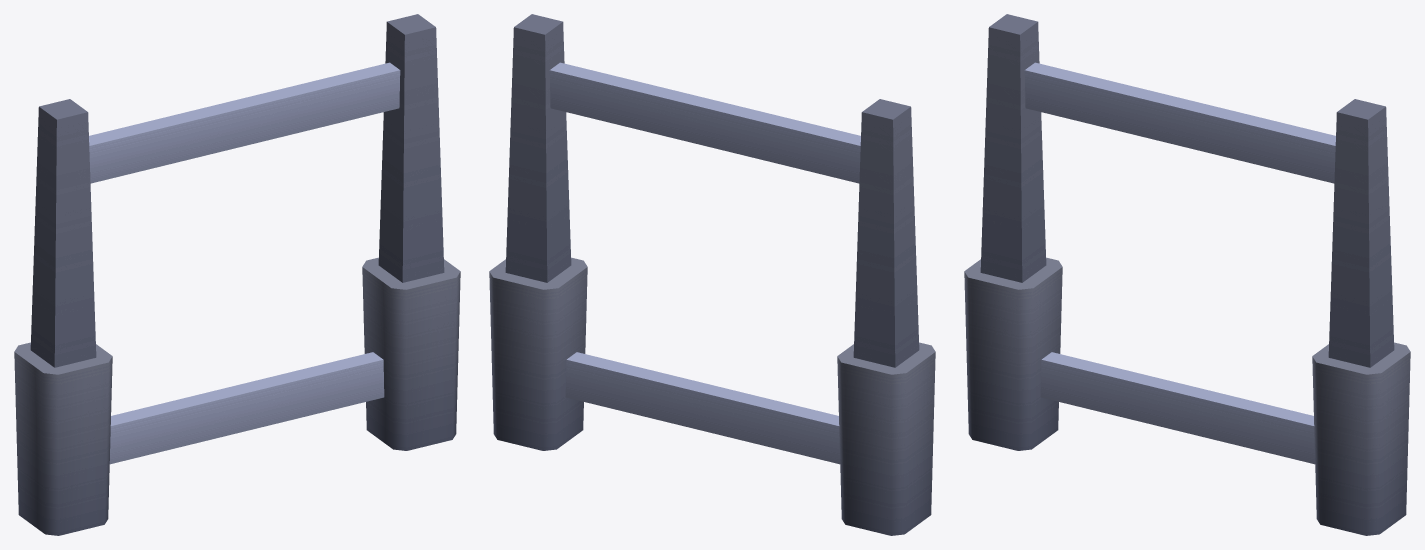
The model's file is structure-metal-wall.glb.
3 views of the same model, side by side, from view 1: azimuth 30°, elevation 25°; view 2: azimuth 150°, elevation 25°; view 3: azimuth 330°, elevation 25° (orthographic).
Parts seen in each view (by area): view 1: structure-metal-wall; view 2: structure-metal-wall; view 3: structure-metal-wall.
Part boxes in pixels (<box>): structure-metal-wall: <box>14,14,460,535</box>; structure-metal-wall: <box>489,14,935,535</box>; structure-metal-wall: <box>964,14,1410,535</box>.
Size of the model in its own units: 0.5354 by 0.5 by 0.0889.
Materials: 1 (1 with a texture image).
